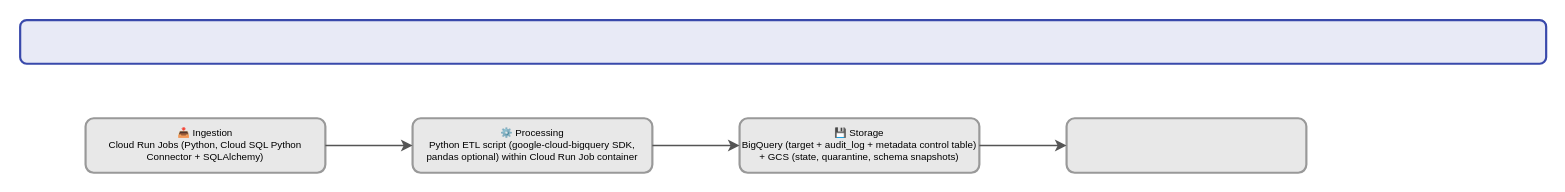
This 1565x192 diagram has some shape labels left out. The box of each missing label's shape, as (x1, y1, x2, y2) in pixels:
Data Pipeline Architecture: (19, 19, 1547, 64)
📊 Consumption Consumption: (1065, 117, 1307, 173)
